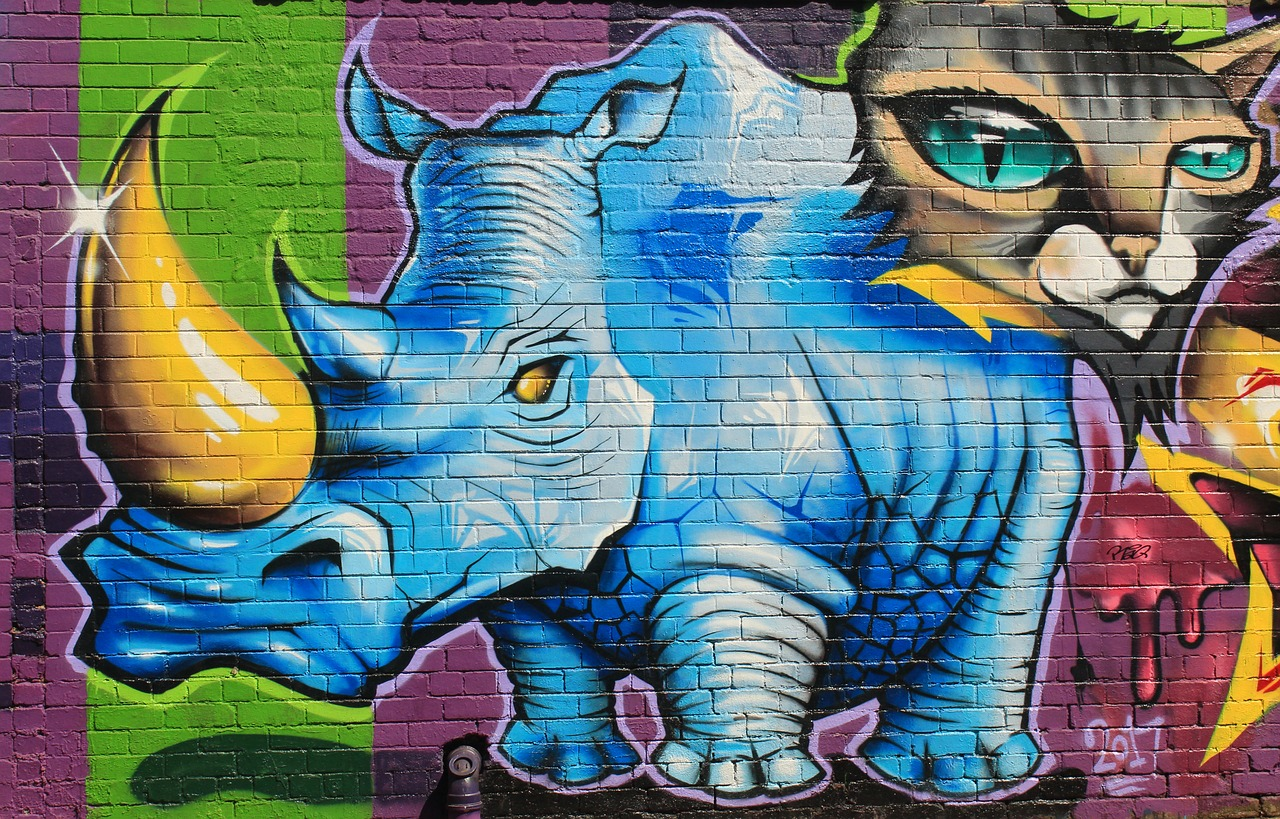graphite: (74, 10, 1280, 805)
